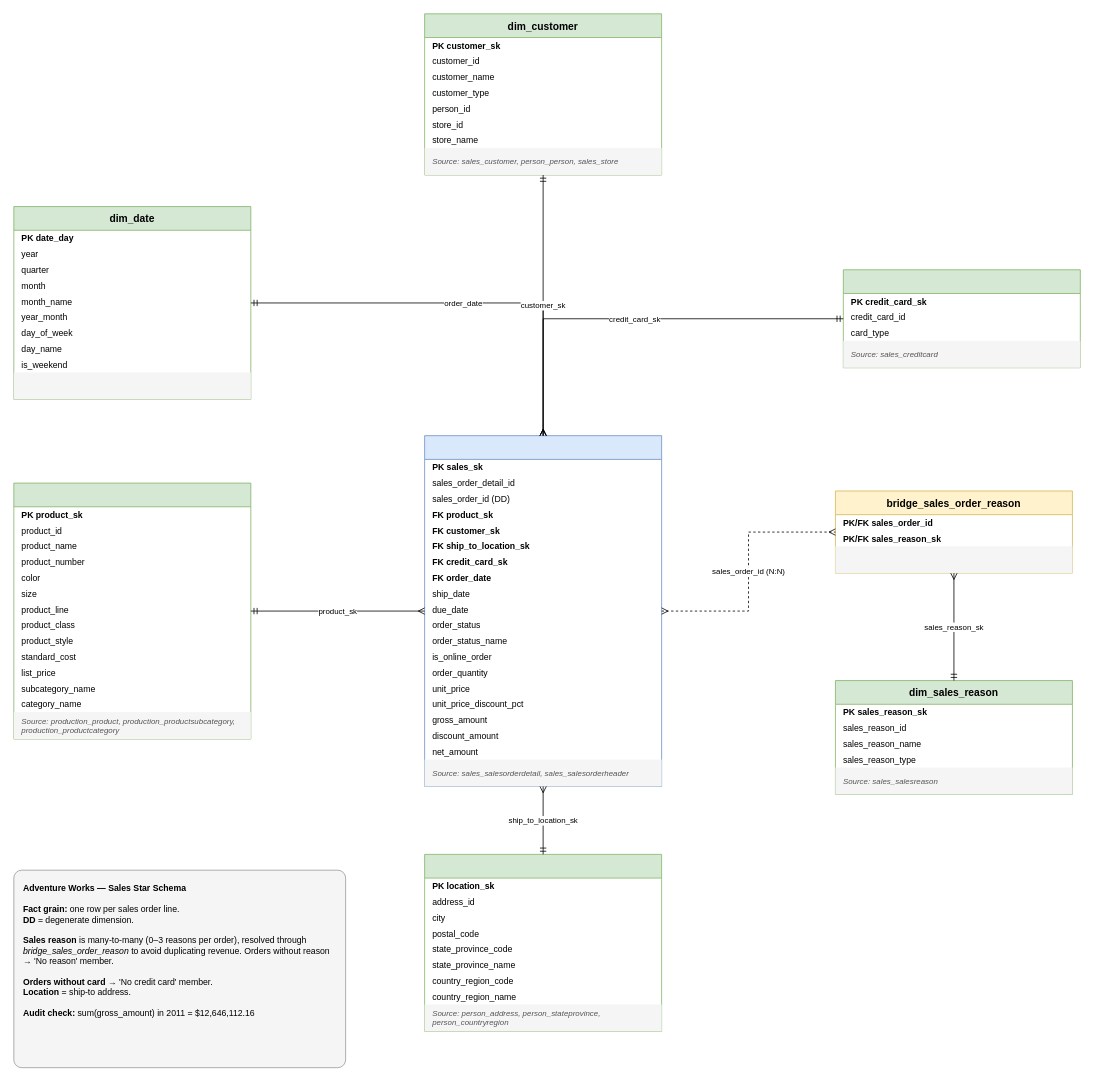
The diagram is 1094 pixels wide and 1082 high, and some of its shapes have lost their labels. Each missing label, with the box of its shape:
dim_credit_card: (843, 269, 1080, 368)
dim_location: (424, 854, 662, 1031)
dim_product: (13, 482, 251, 739)
fct_sales: (424, 435, 662, 786)
Source: Generated (dbt_utils.date_spine): (13, 372, 250, 399)
Source: sales_salesorderheadersalesreason, sales_salesorderheader: (835, 546, 1072, 573)
